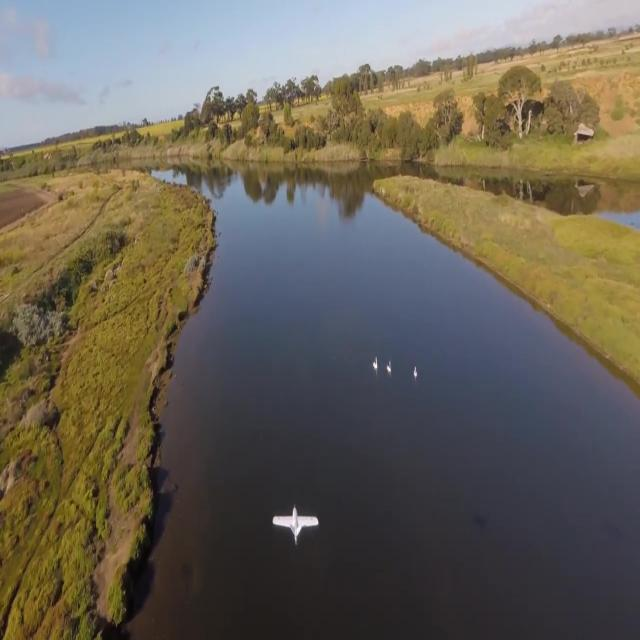iha: (270, 506, 319, 544)
